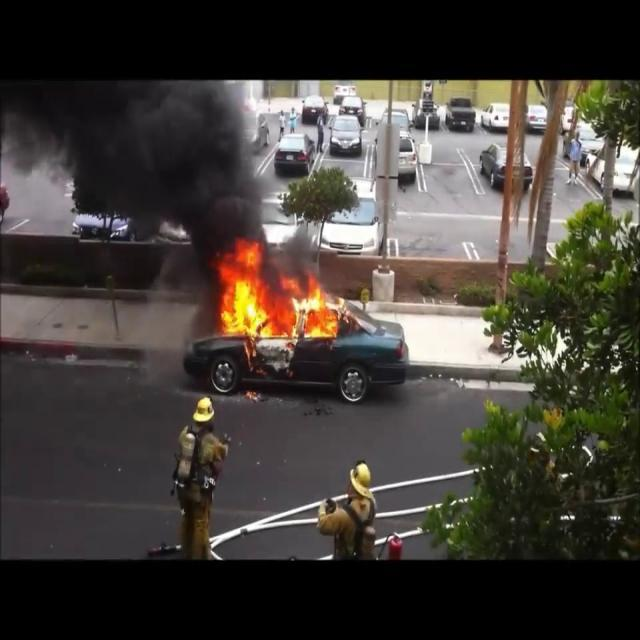Fire: (210, 244, 354, 350)
Smoke: (0, 80, 317, 252)
